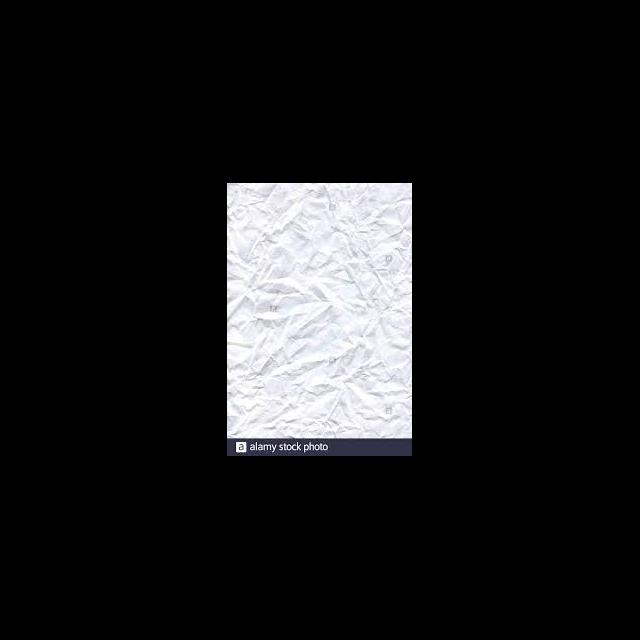paper: (228, 184, 412, 438)
